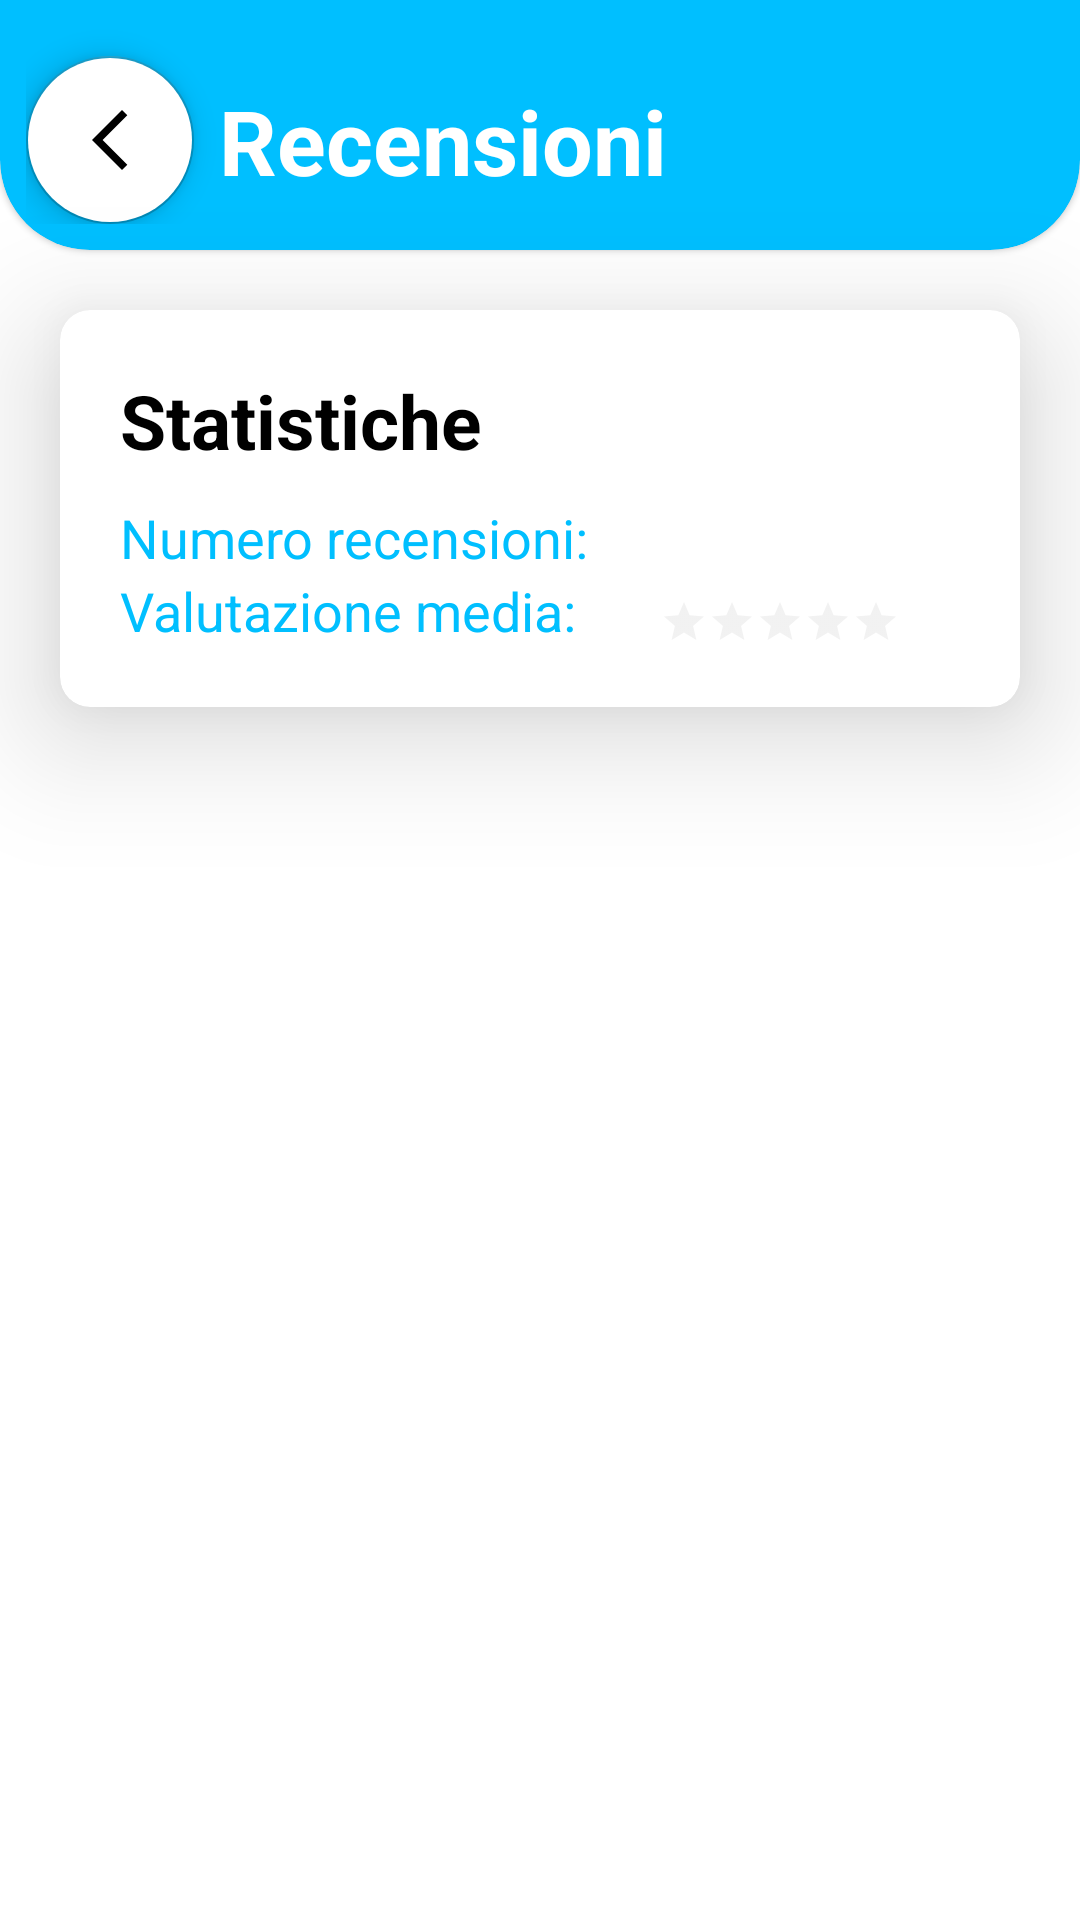

Screen size 1080x1920. Icon name, then its box in pixels as (x1, y1, x2, y2):
arrow back: (26, 56, 194, 224)
